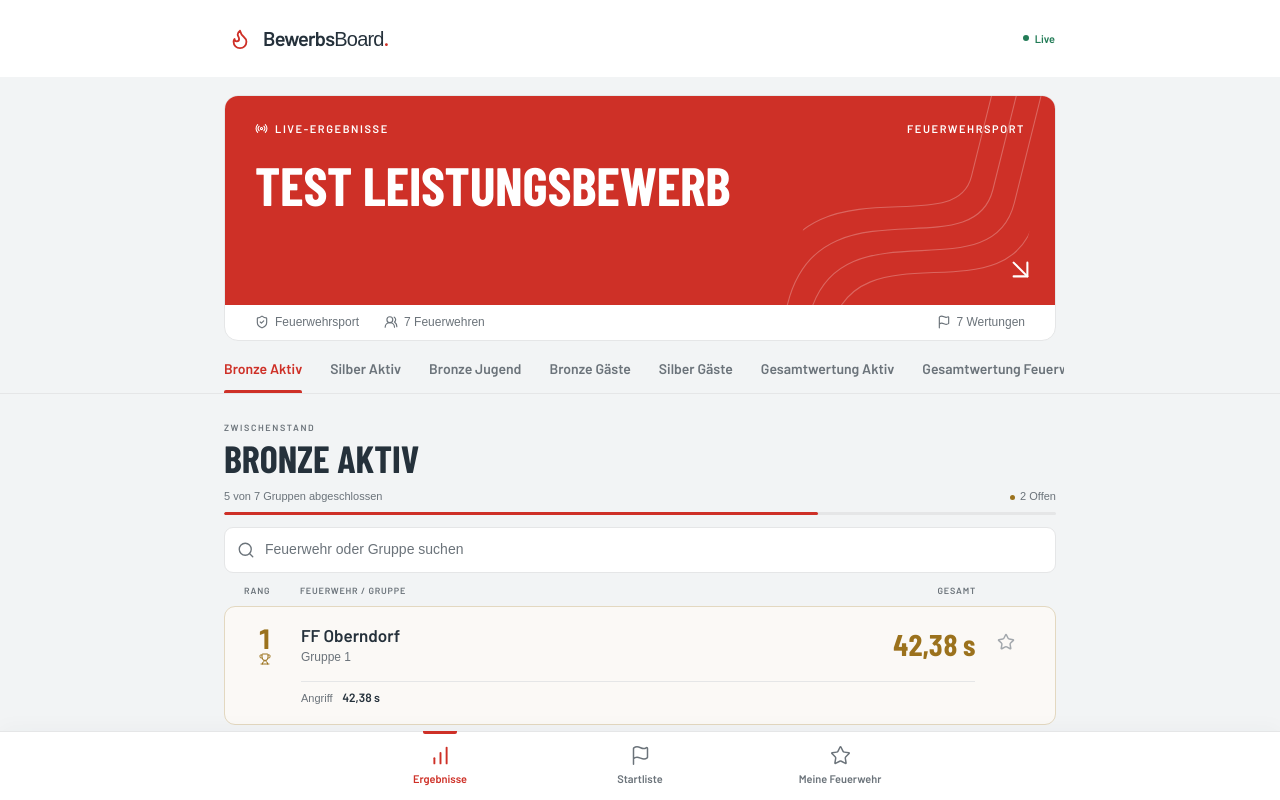
Test: PublicScoreboard Component › finds ranked, upcoming, and DNF groups without changing their ranks
Type "unterndorf" into the search field at {"x": 654, "y": 550}, box [265,528,1043,572]
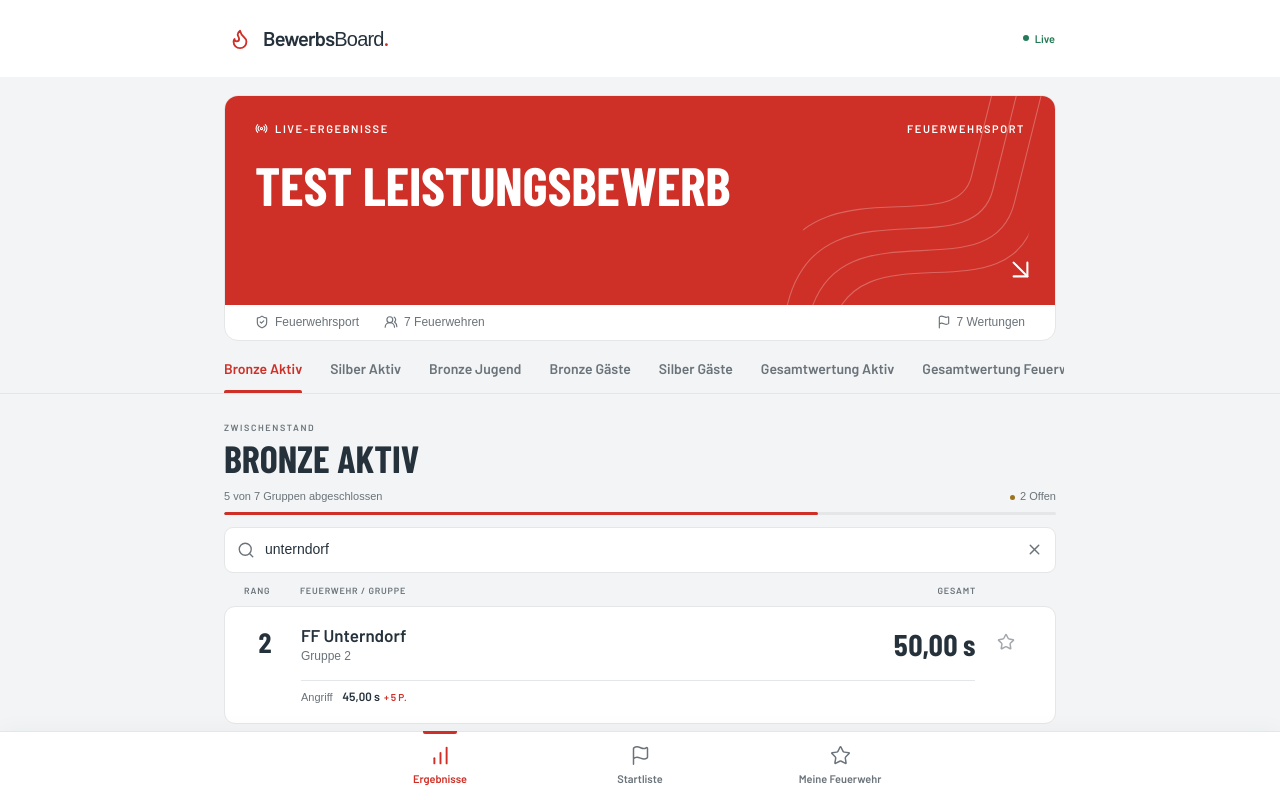
Expected: the number of rows is 2, [223,584,976,596]; [224,606,1056,724]
Expected: the cell "2" is shown, [258,625,272,659]
Replace the text in the search field with "west" at {"x": 637, "y": 550}, box [265,528,1009,572]
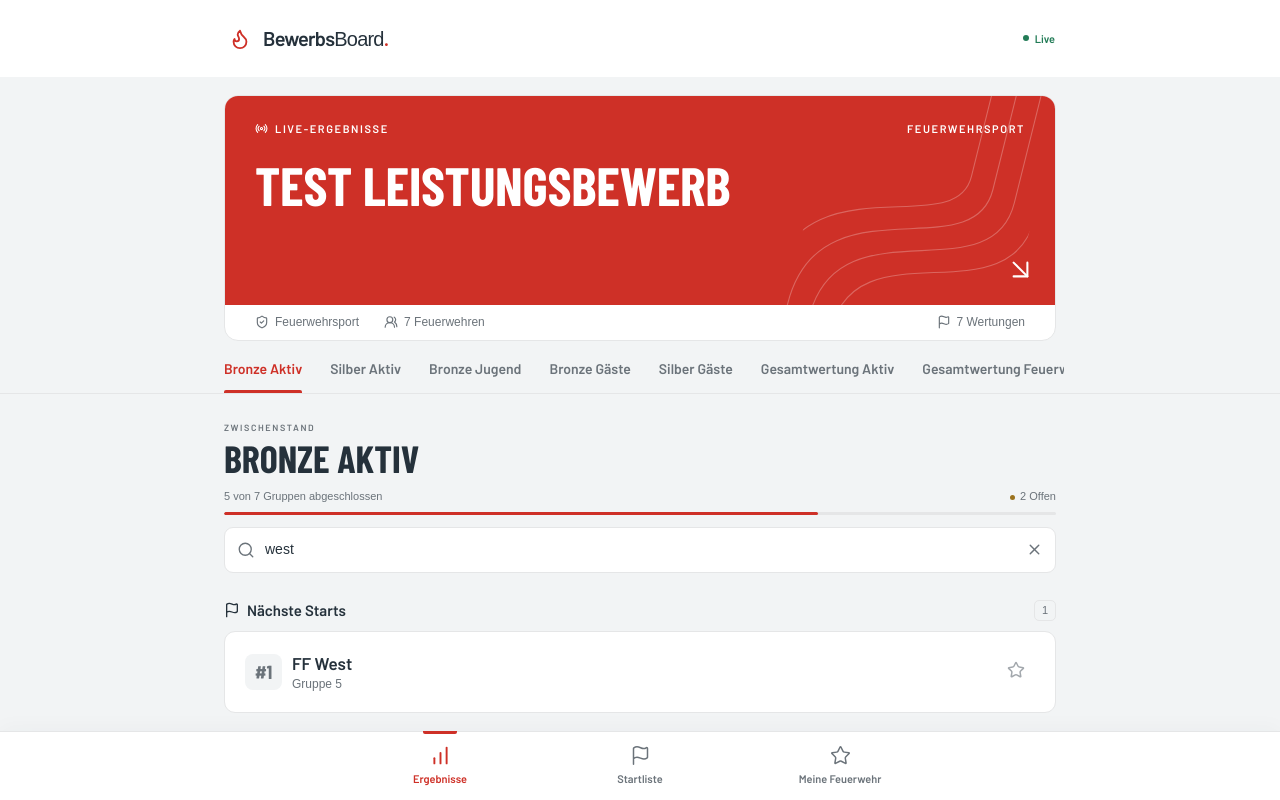
Now the table is gone
Now the text "FF West" is shown, box [292,653,352,673]
Replace the text in the search field with "nord" at {"x": 637, "y": 550}, box [265,528,1009,572]
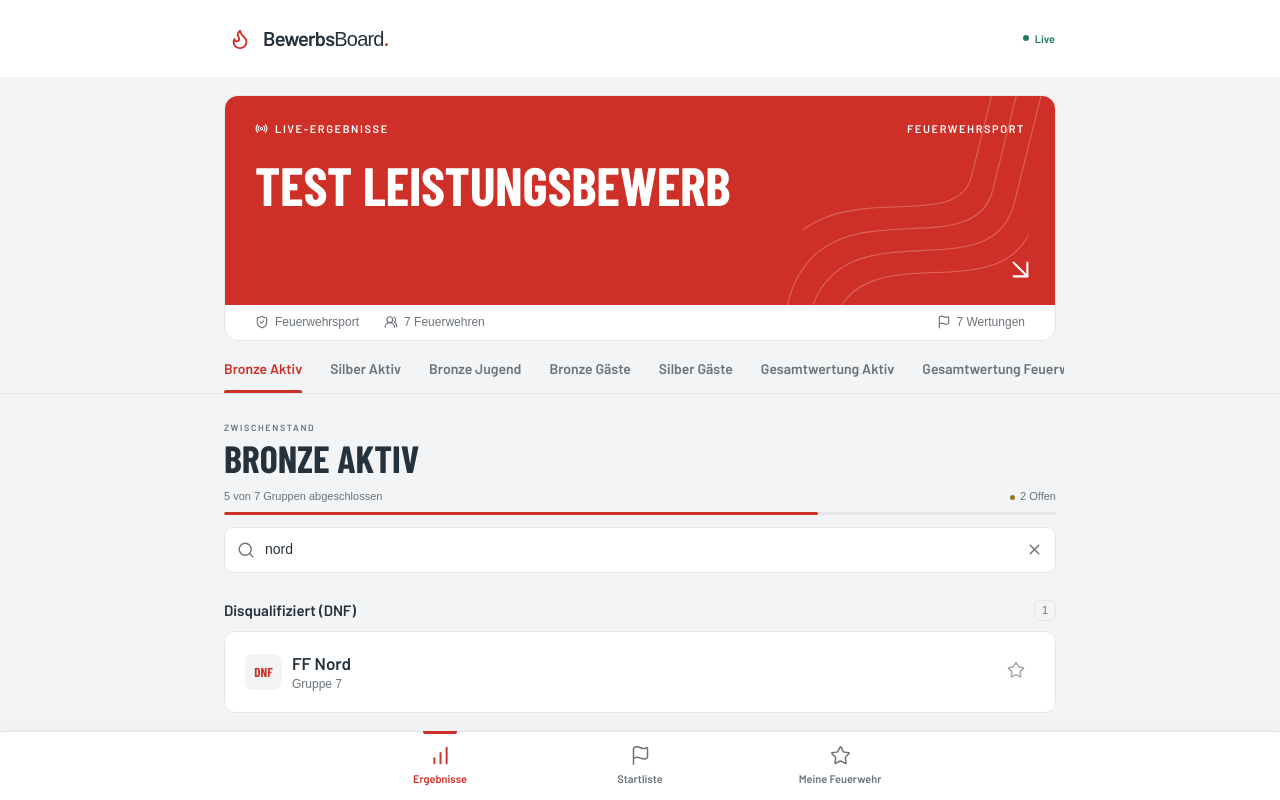
Now the text "FF Nord" is shown, box [292,653,351,673]
Replace the text in the search field with "unknown team" at {"x": 637, "y": 550}, box [265,528,1009,572]
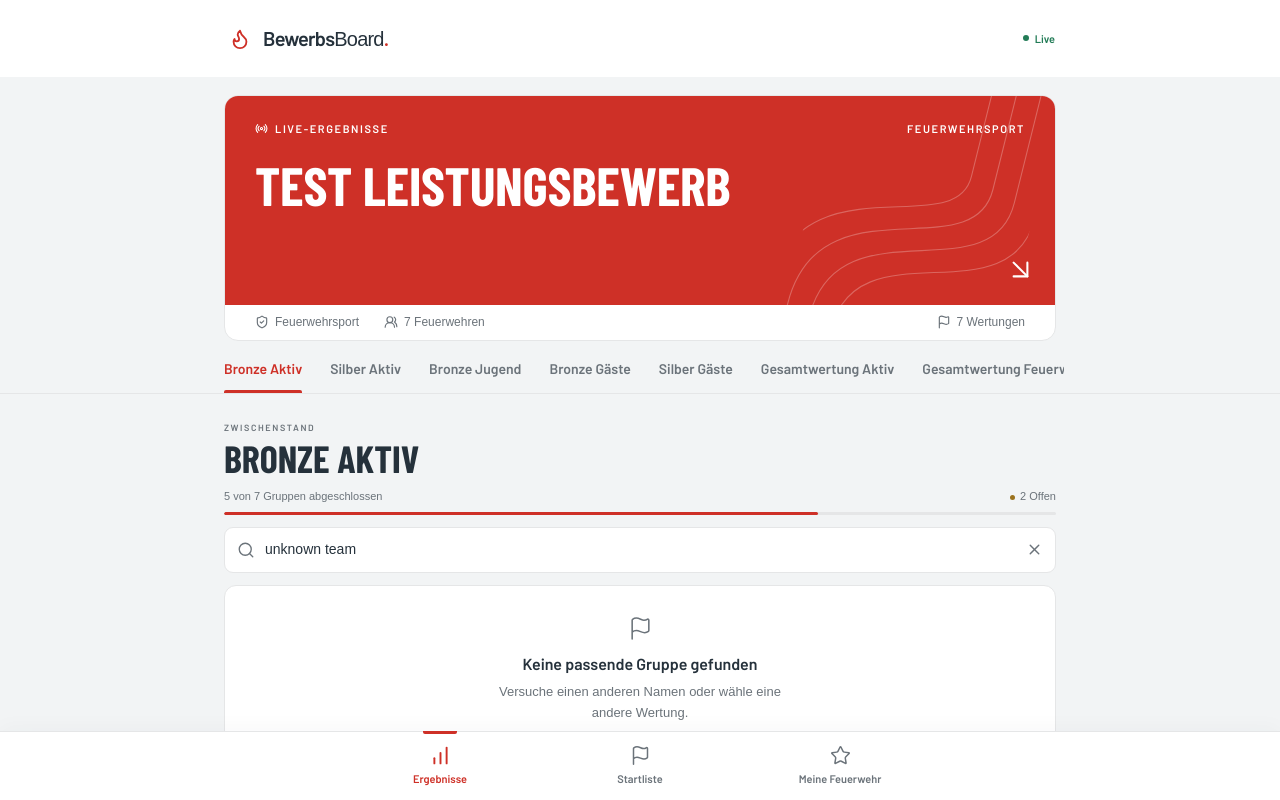
Now the heading "Keine passende Gruppe gefunden" is shown, box [522,653,758,675]
Click the button named "Suche löschen" at {"x": 1034, "y": 550}, box [1019,529,1049,571]
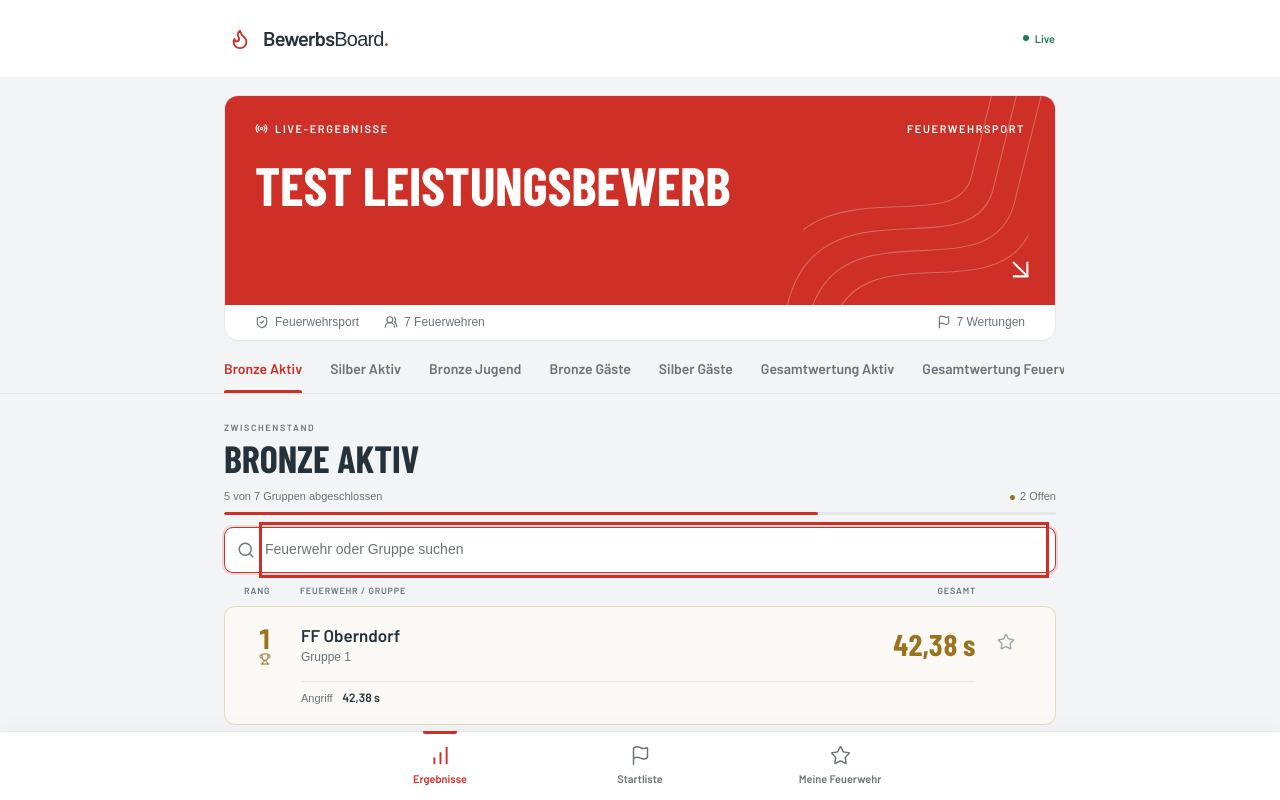
Now the number of rows is 5
